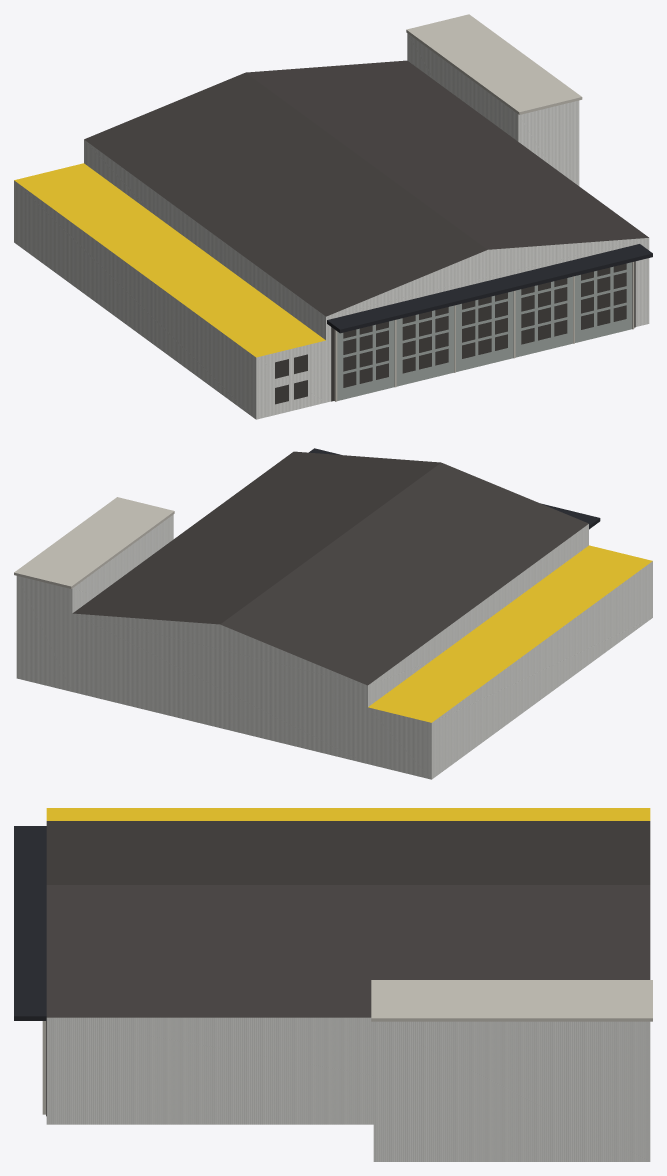
File: cyxd_hangar9.gltf
3 renders of one model, top to bottom at view 1: azimuth 30°, elevation 25°; view 2: azimuth 150°, elevation 25°; view 3: azimuth 270°, elevation 25°, orthographic. The views are drawn at different scales.
Parts seen in each view (by area): view 1: cyxd_hangar9; view 2: cyxd_hangar9; view 3: cyxd_hangar9.
Part boxes in pixels (x1,y1,x2,y2): cyxd_hangar9: [14, 14, 652, 419]; cyxd_hangar9: [14, 448, 652, 779]; cyxd_hangar9: [14, 808, 652, 1161].
Bounding box in the file's own units: 52.2 × 12.7 × 50.8.
